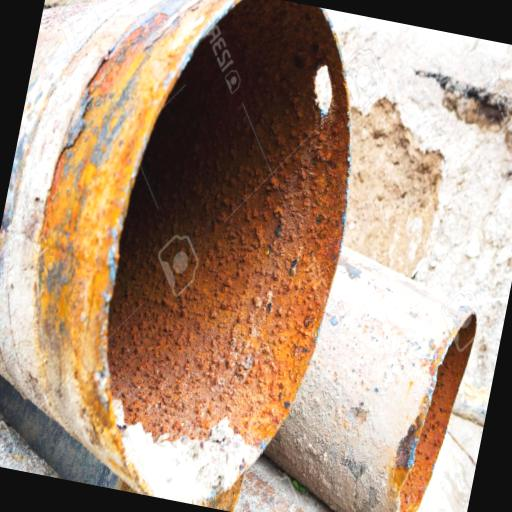segmentation: (37, 0, 345, 483), (390, 316, 472, 512)
